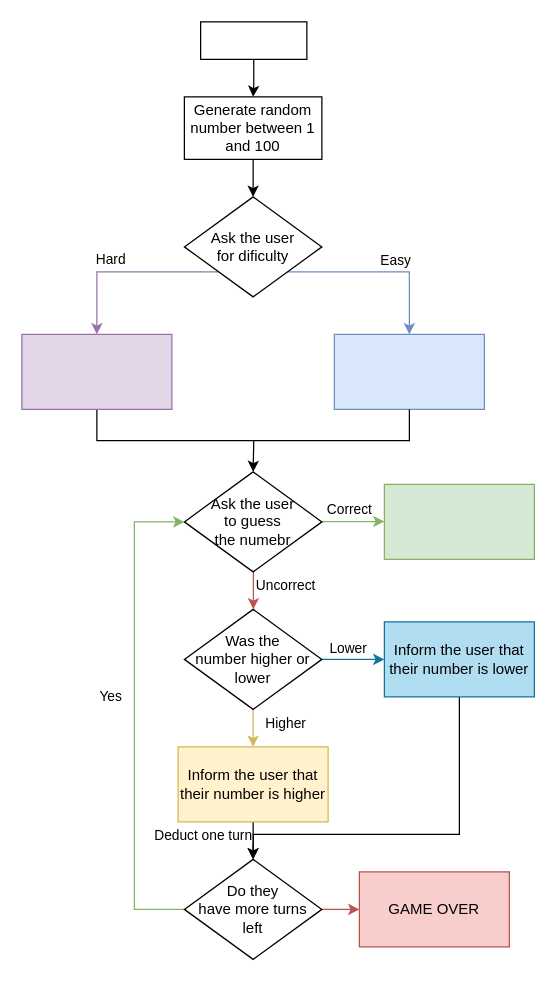
The diagram is 556 pixels wide and 981 high, and some of its shapes have lost their labels. The shapes that lost their labels are listed below. From the top down, each one's box as (x1, y1, x2, y2) in pixels, then its label:
(199, 21, 307, 59): Start
(21, 333, 172, 409): 5 turns to guesss the numebr
(333, 333, 484, 409): 10 turns to guess the number
(383, 483, 534, 559): Congratulate the user and exit hte program
